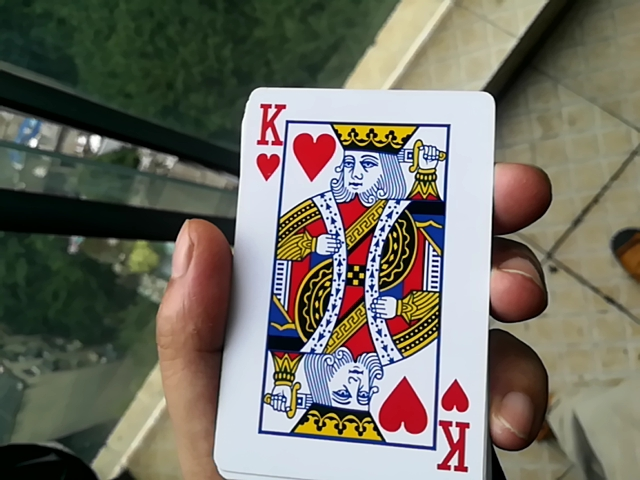hx k: (206, 75, 479, 480)
